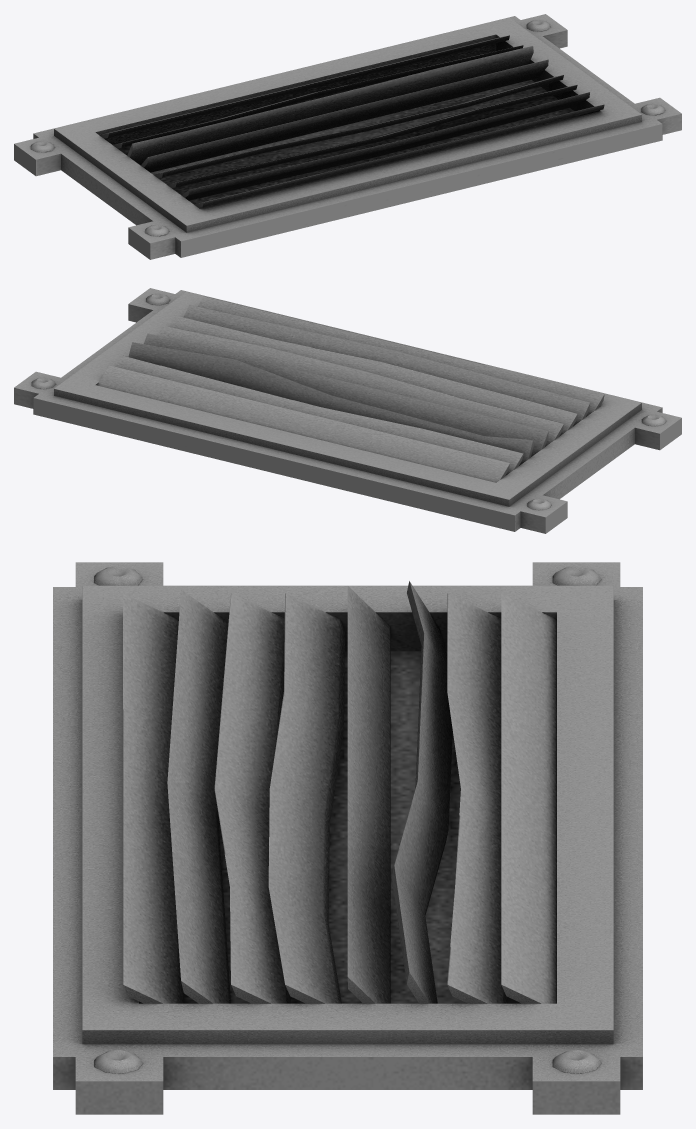
The model's file is WallVent.obj.
3 renders of one model, top to bottom at view 1: azimuth 30°, elevation 25°; view 2: azimuth 150°, elevation 25°; view 3: azimuth 270°, elevation 25°, orthographic. The views are drawn at different scales.
Visible parts, largest first — view 1: Plane.184_Plane.258; view 2: Plane.184_Plane.258; view 3: Plane.184_Plane.258.
Boxes of the visible parts, box(x1,y1,x2,y2) form: Plane.184_Plane.258: box(14, 14, 681, 259); Plane.184_Plane.258: box(14, 288, 681, 533); Plane.184_Plane.258: box(53, 562, 642, 1114).
Size of the model in its own units: 0.0867 by 0.00682 by 0.0417.
